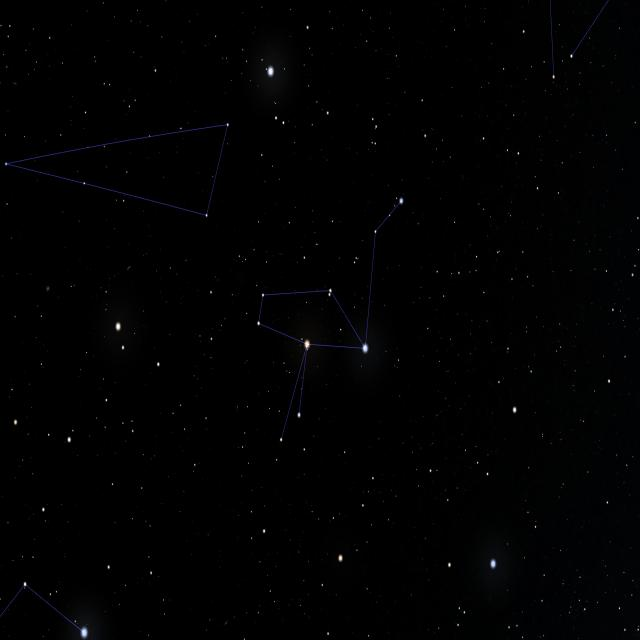Grus: (254, 194, 407, 446)
